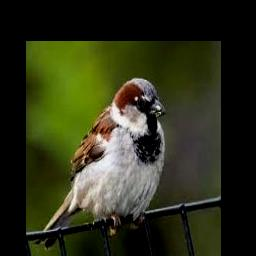Sparrow: (35, 78, 165, 251)
